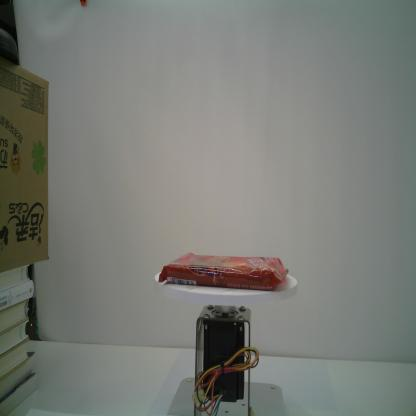Dessert: (158, 251, 289, 292)
